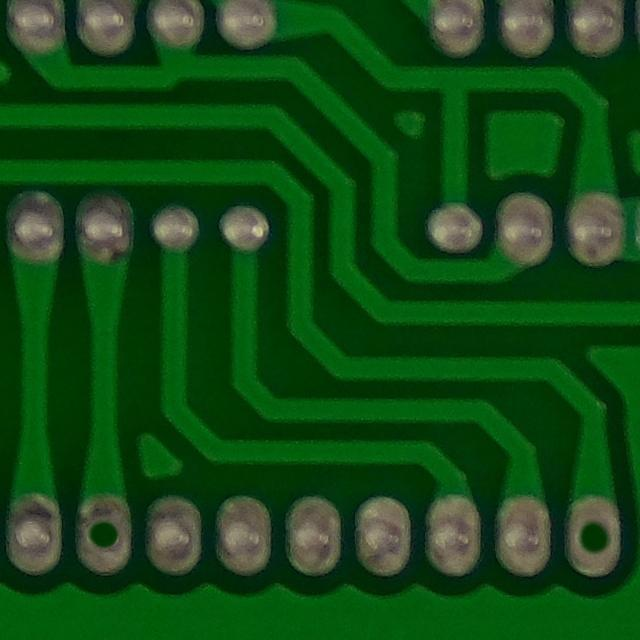missing_hole: (550, 489, 640, 587), (72, 494, 143, 573)
